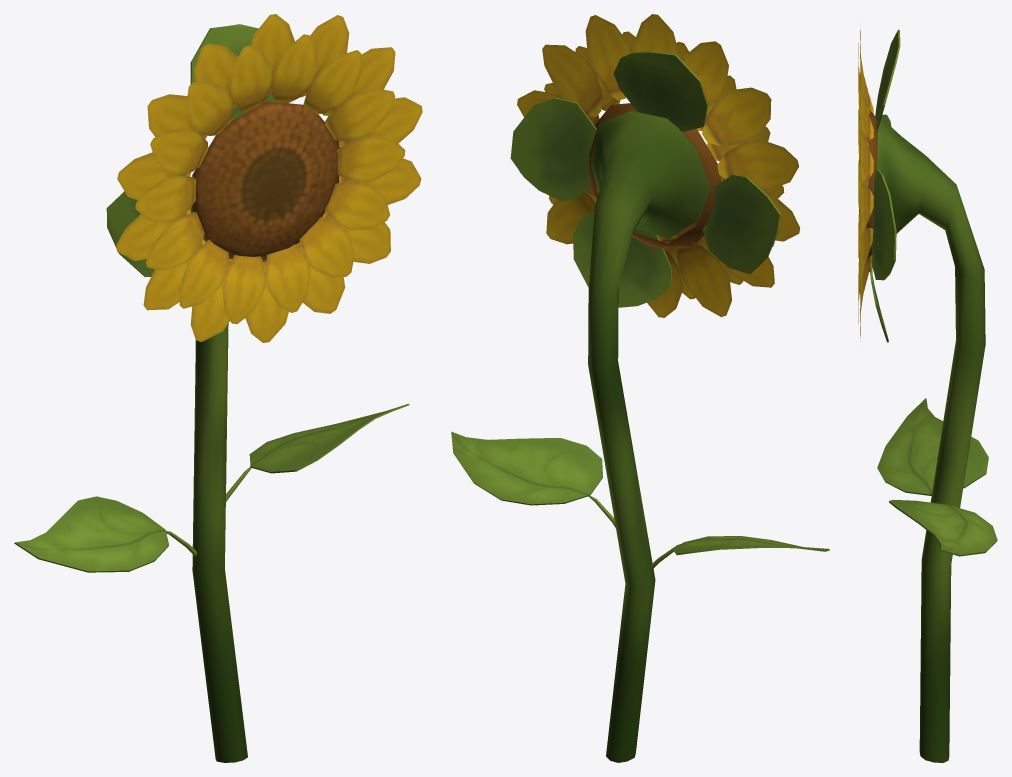
File: SunflowerUpdated.fbx
The picture shows the model from 3 angles, left to right: view 1: azimuth 30°, elevation 25°; view 2: azimuth 150°, elevation 25°; view 3: azimuth 270°, elevation 25°; orthographic projection. The views are drawn at different scales.
Parts seen in each view (by area): view 1: Sunflowerpetals, Sunflower_Stem, Sunflower Leaf, Sunflower_Greenleaf; view 2: Sunflower_Stem, Sunflowerpetals, Sunflower_Greenleaf, Sunflower Leaf; view 3: Sunflower_Stem, Sunflower Leaf, Sunflower_Greenleaf, Sunflowerpetals.
Boxes of the visible parts, x1,y1,x2,y2 form: Sunflowerpetals: (116, 14, 422, 342); Sunflower_Stem: (192, 101, 338, 762); Sunflower Leaf: (14, 403, 409, 572); Sunflower_Greenleaf: (106, 24, 340, 276); Sunflower_Stem: (588, 103, 720, 762); Sunflowerpetals: (517, 14, 799, 317); Sunflower_Greenleaf: (510, 50, 780, 307); Sunflower Leaf: (451, 431, 829, 569); Sunflower_Stem: (859, 110, 985, 762); Sunflower Leaf: (877, 398, 997, 556); Sunflower_Greenleaf: (870, 29, 900, 342); Sunflowerpetals: (858, 25, 873, 341).
Size of the model in its own units: 299 by 550 by 95.36.
